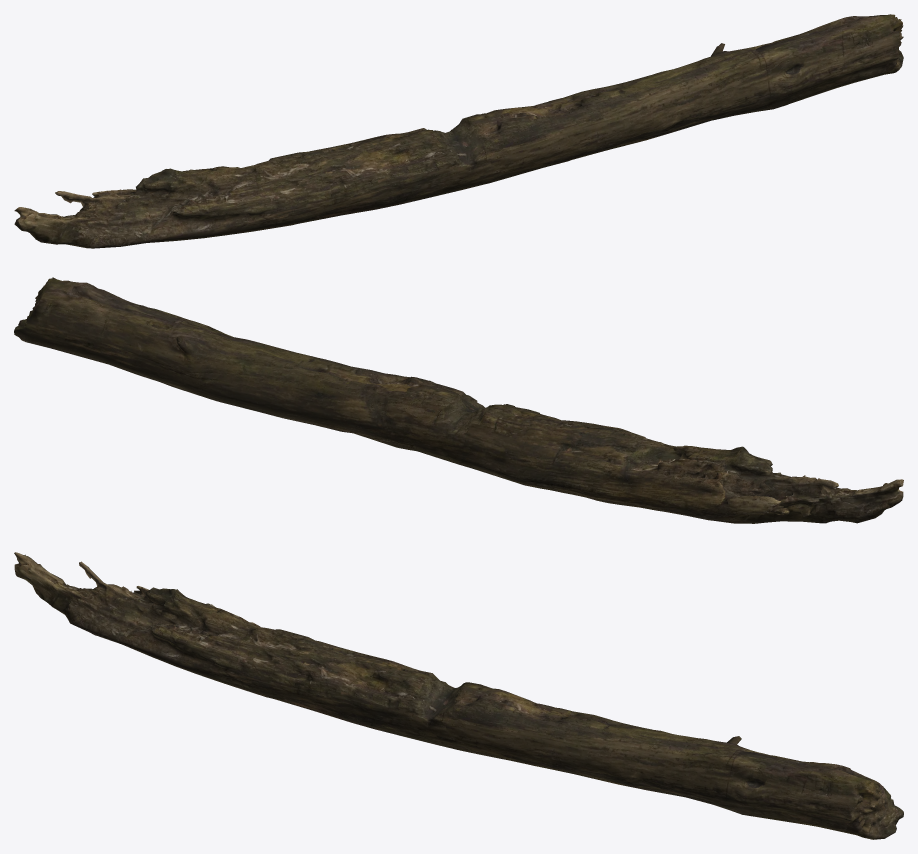
File: dead_tree_trunk.glb
3 renders of one model, top to bottom at view 1: azimuth 30°, elevation 25°; view 2: azimuth 150°, elevation 25°; view 3: azimuth 330°, elevation 25°, orthographic.
Visible parts, largest first — view 1: dead_tree_trunk; view 2: dead_tree_trunk; view 3: dead_tree_trunk.
Boxes of the visible parts, left/top/right/bottom form: dead_tree_trunk: left=14, top=14, right=903, bottom=248; dead_tree_trunk: left=14, top=277, right=903, bottom=523; dead_tree_trunk: left=14, top=552, right=903, bottom=839.
Bounding box in the file's own units: 3.05 × 0.2898 × 0.2775.
Materials: 1 (1 with a texture image).
